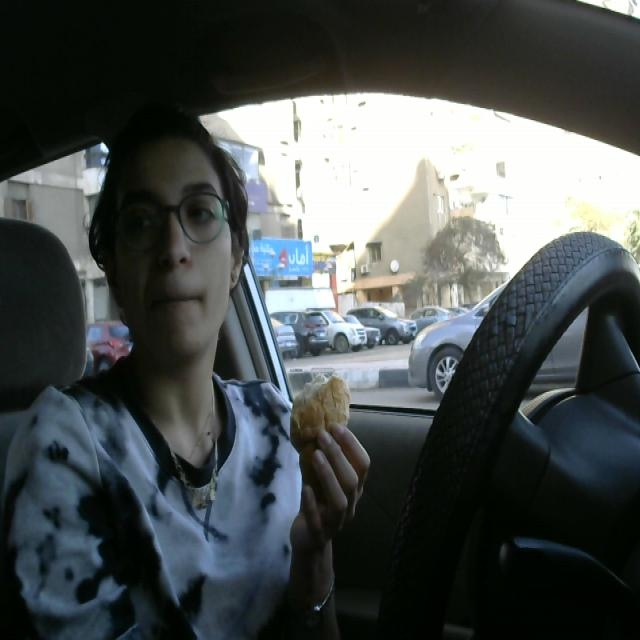eating: (284, 370, 355, 470)
